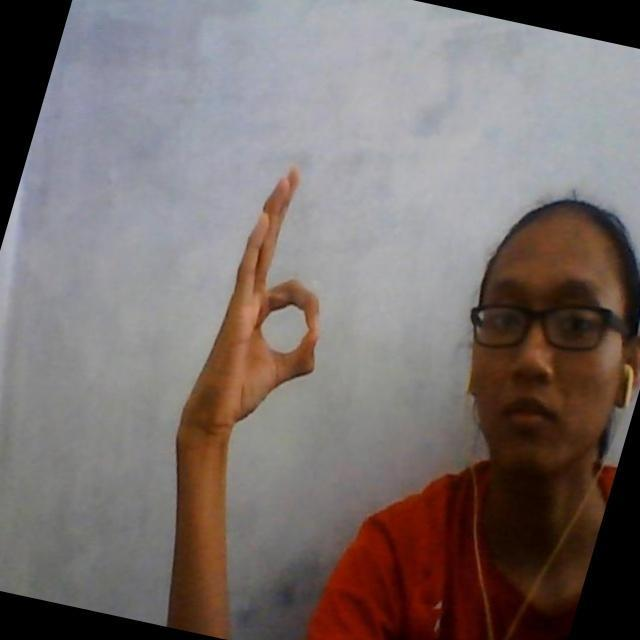O: (211, 163, 324, 408)
